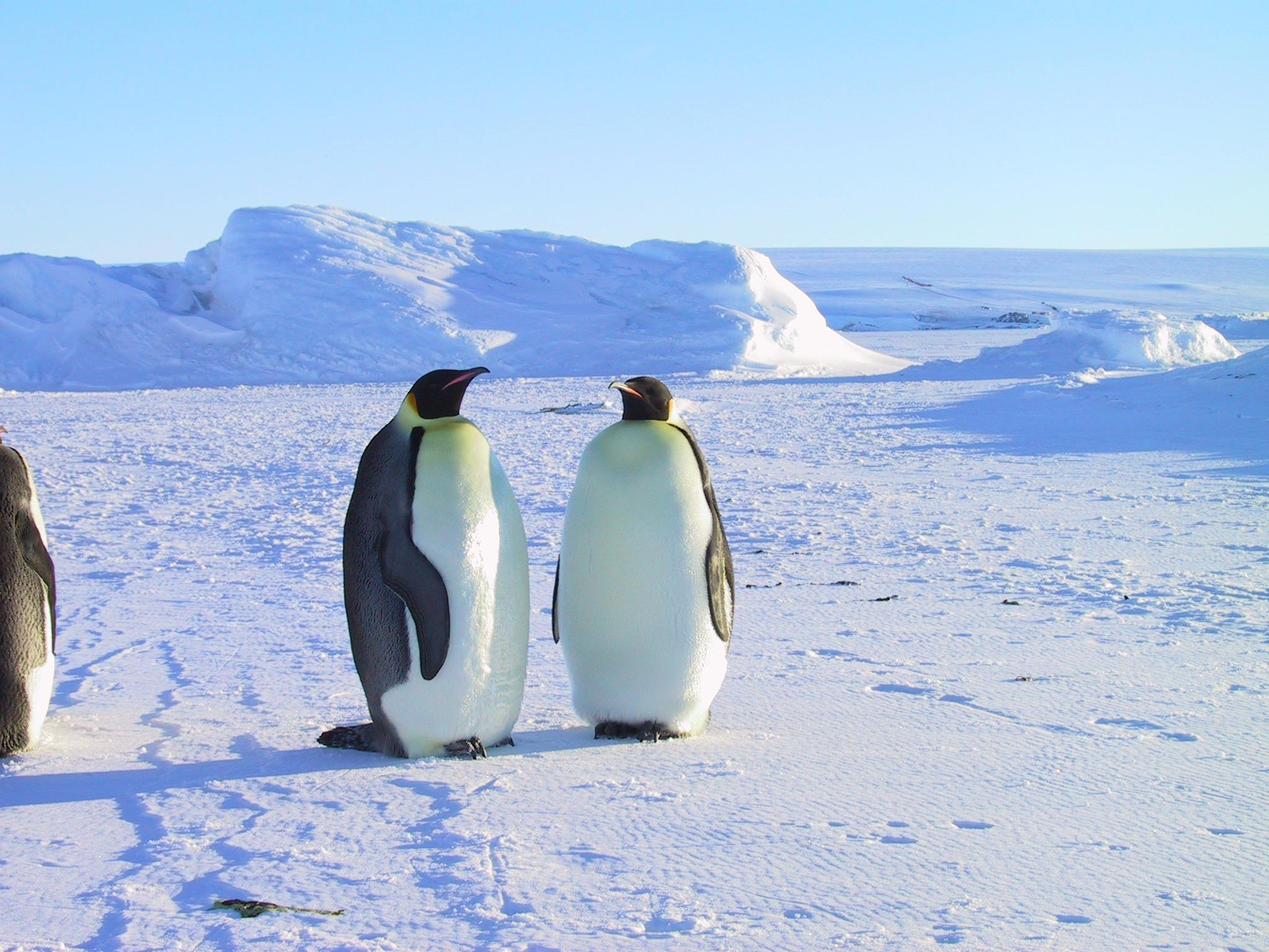Penguin: (317, 366, 530, 760), (553, 377, 734, 741), (0, 425, 56, 758)
